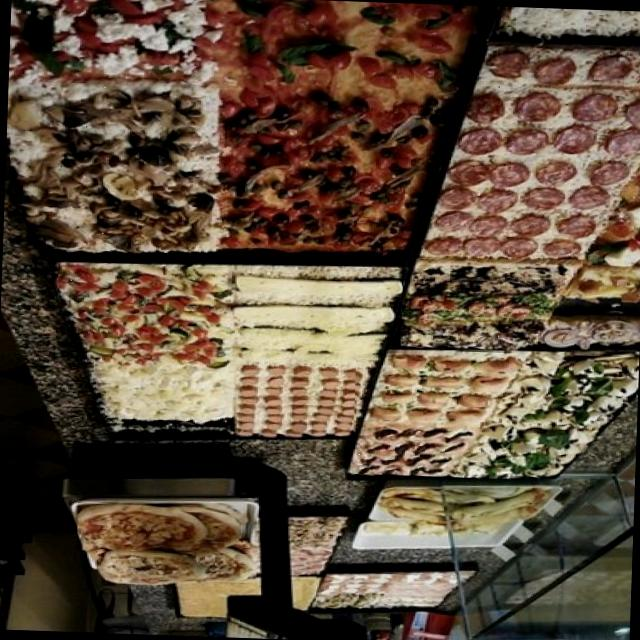pizza: (210, 0, 477, 252), (423, 46, 640, 262), (10, 81, 224, 251), (456, 352, 637, 474), (352, 351, 528, 473), (57, 263, 228, 365), (401, 259, 575, 349), (236, 361, 368, 436), (94, 357, 231, 424), (78, 503, 243, 553), (316, 572, 454, 606), (98, 548, 207, 585), (197, 548, 255, 580)
